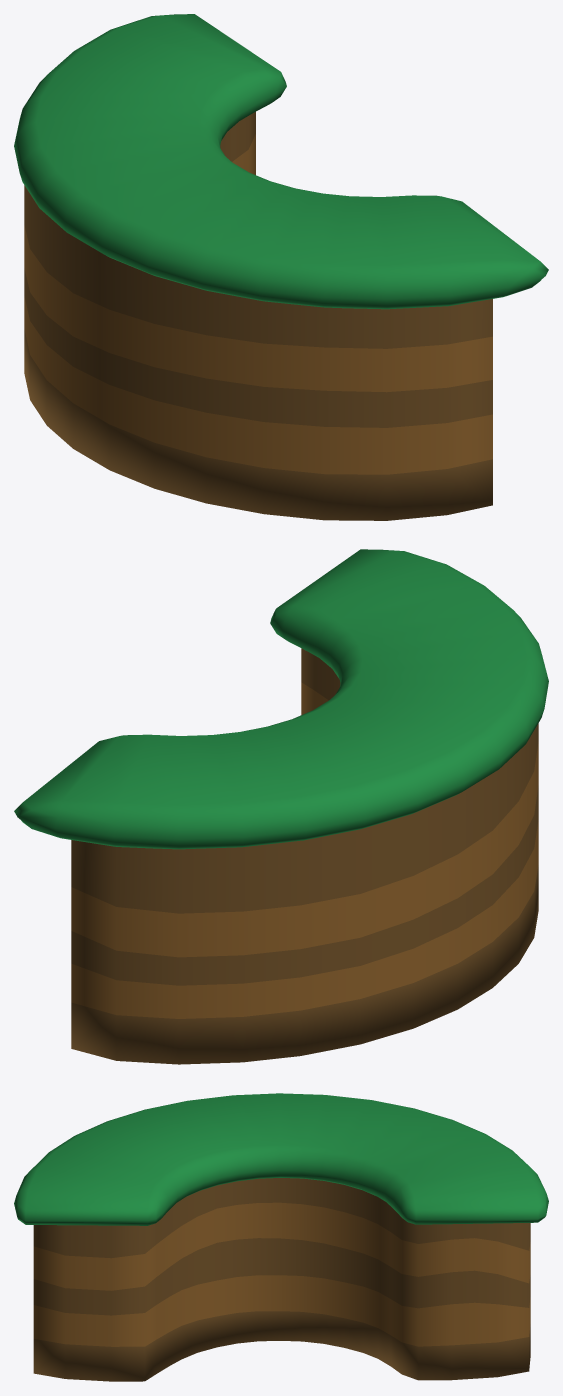
Rendered from Plateforme_semi_cercle.fbx.
3 views of the same model, one above another, from view 1: azimuth 30°, elevation 25°; view 2: azimuth 150°, elevation 25°; view 3: azimuth 270°, elevation 25° (orthographic). The views are drawn at different scales.
Visible parts, largest first — view 1: Cube.019; view 2: Cube.019; view 3: Cube.019.
Part boxes in pixels (left/top/right/bottom): Cube.019: left=14, top=14, right=548, bottom=520; Cube.019: left=14, top=549, right=548, bottom=1064; Cube.019: left=14, top=1093, right=548, bottom=1381.
Size of the model in its own units: 885 by 681 by 1719.
